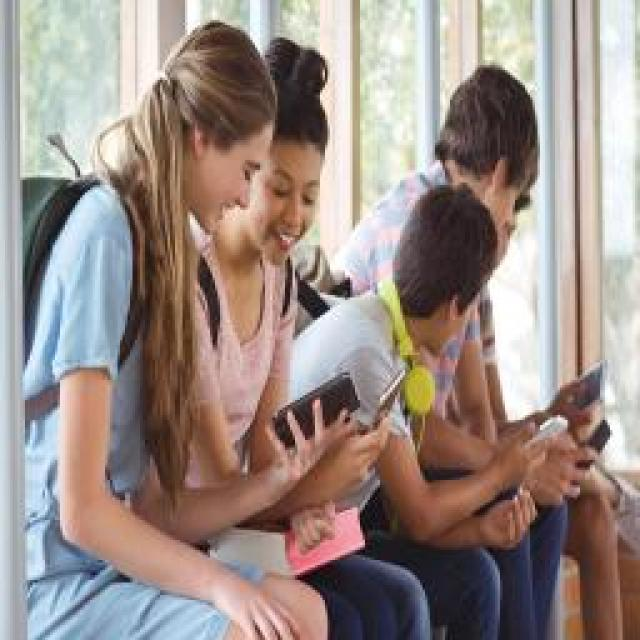phone: (20, 20, 358, 640), (358, 62, 610, 508), (195, 40, 410, 560), (275, 190, 570, 550), (462, 185, 608, 410)
